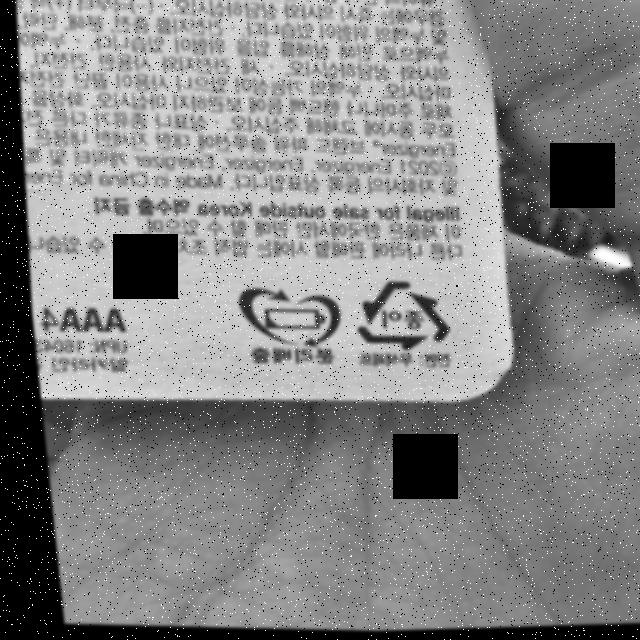Paper: (343, 277, 449, 358)
